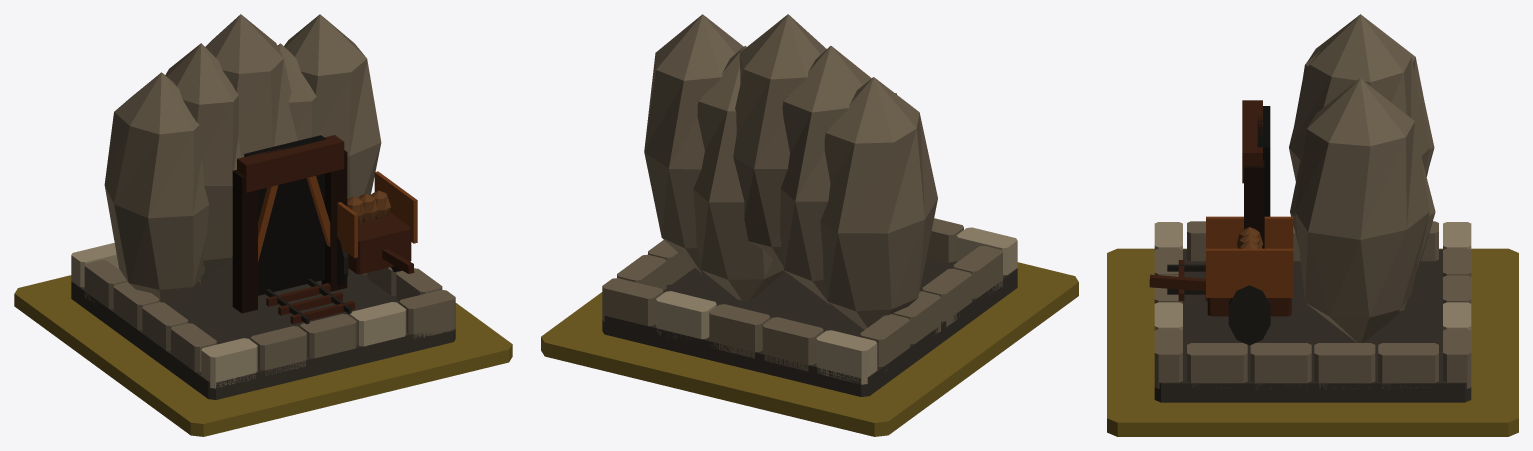
The model's file is mine_t3.glb.
The picture shows the model from 3 angles, left to right: view 1: azimuth 30°, elevation 25°; view 2: azimuth 150°, elevation 25°; view 3: azimuth 270°, elevation 25°; orthographic projection. The views are drawn at different scales.
Parts seen in each view (by area): view 1: MMR | mine | T03 Architecture.001, MMR | mine | Tier 03 Ground.001; view 2: MMR | mine | T03 Architecture.001, MMR | mine | Tier 03 Ground.001; view 3: MMR | mine | T03 Architecture.001, MMR | mine | Tier 03 Ground.001.
Part boxes in pixels (x1,y1,x2,y2): MMR | mine | T03 Architecture.001: (71, 14, 455, 399); MMR | mine | Tier 03 Ground.001: (14, 275, 512, 436); MMR | mine | T03 Architecture.001: (602, 14, 1017, 396); MMR | mine | Tier 03 Ground.001: (541, 262, 1078, 436); MMR | mine | T03 Architecture.001: (1149, 14, 1471, 402); MMR | mine | Tier 03 Ground.001: (1107, 248, 1518, 436).
Bounding box in the file's own units: 1.3 × 1.17 × 1.3.
1 material, 1 textured.
